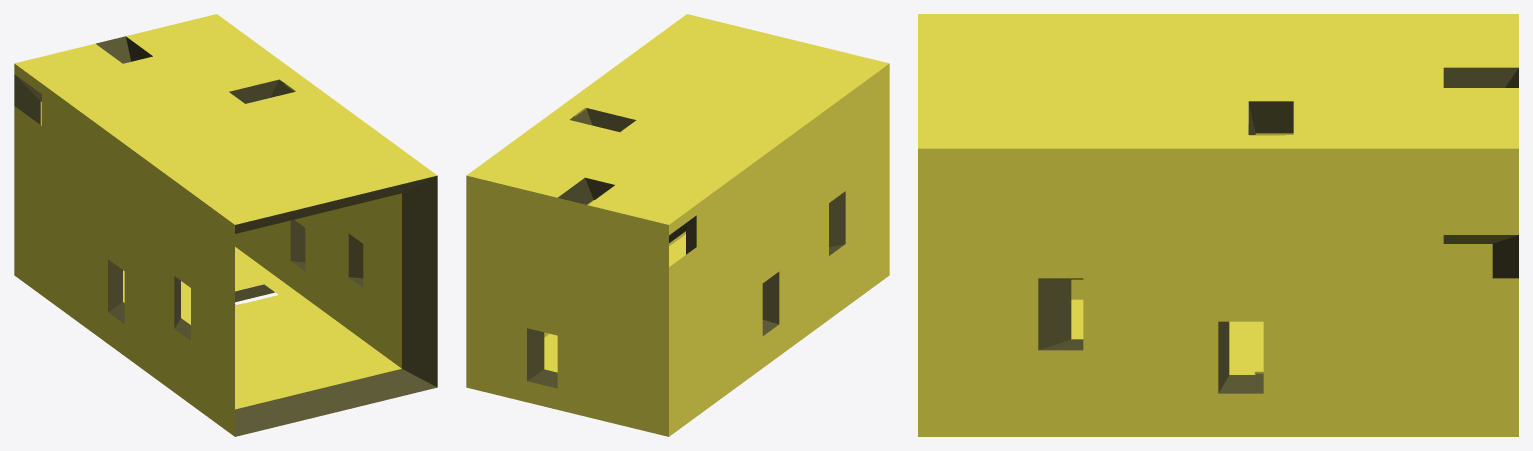
File: 5_nivel03_base03.fbx
3 views of the same model, side by side, from view 1: azimuth 30°, elevation 25°; view 2: azimuth 150°, elevation 25°; view 3: azimuth 270°, elevation 25° (orthographic). The views are drawn at different scales.
Parts seen in each view (by area): view 1: pCube2; view 2: pCube2; view 3: pCube2.
Boxes of the visible parts, x1,y1,x2,y2 form: pCube2: [14, 14, 437, 436]; pCube2: [466, 14, 889, 436]; pCube2: [918, 14, 1518, 436].
Bounding box in the file's own units: 604 × 604 × 1141.
1 material, 1 textured.
